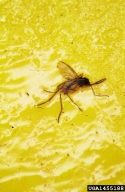Fruit fly: (38, 65, 101, 108)
